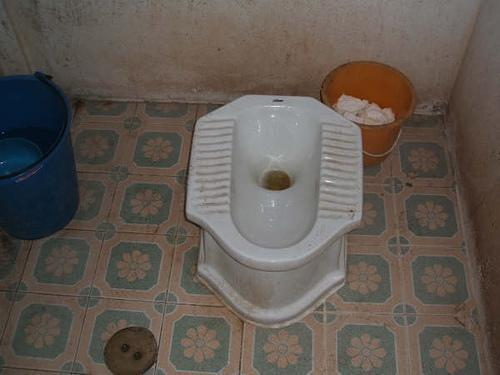Bote de Basura: (313, 61, 418, 169)
Sanitario: (183, 90, 366, 336)
